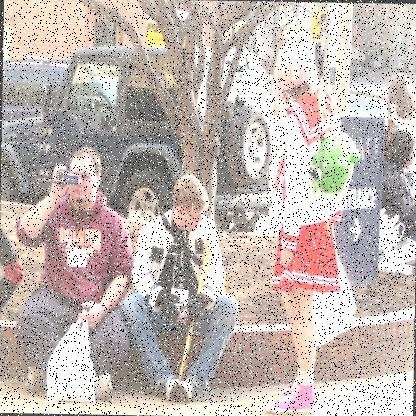Car: (0, 44, 275, 235), (1, 57, 118, 124)
